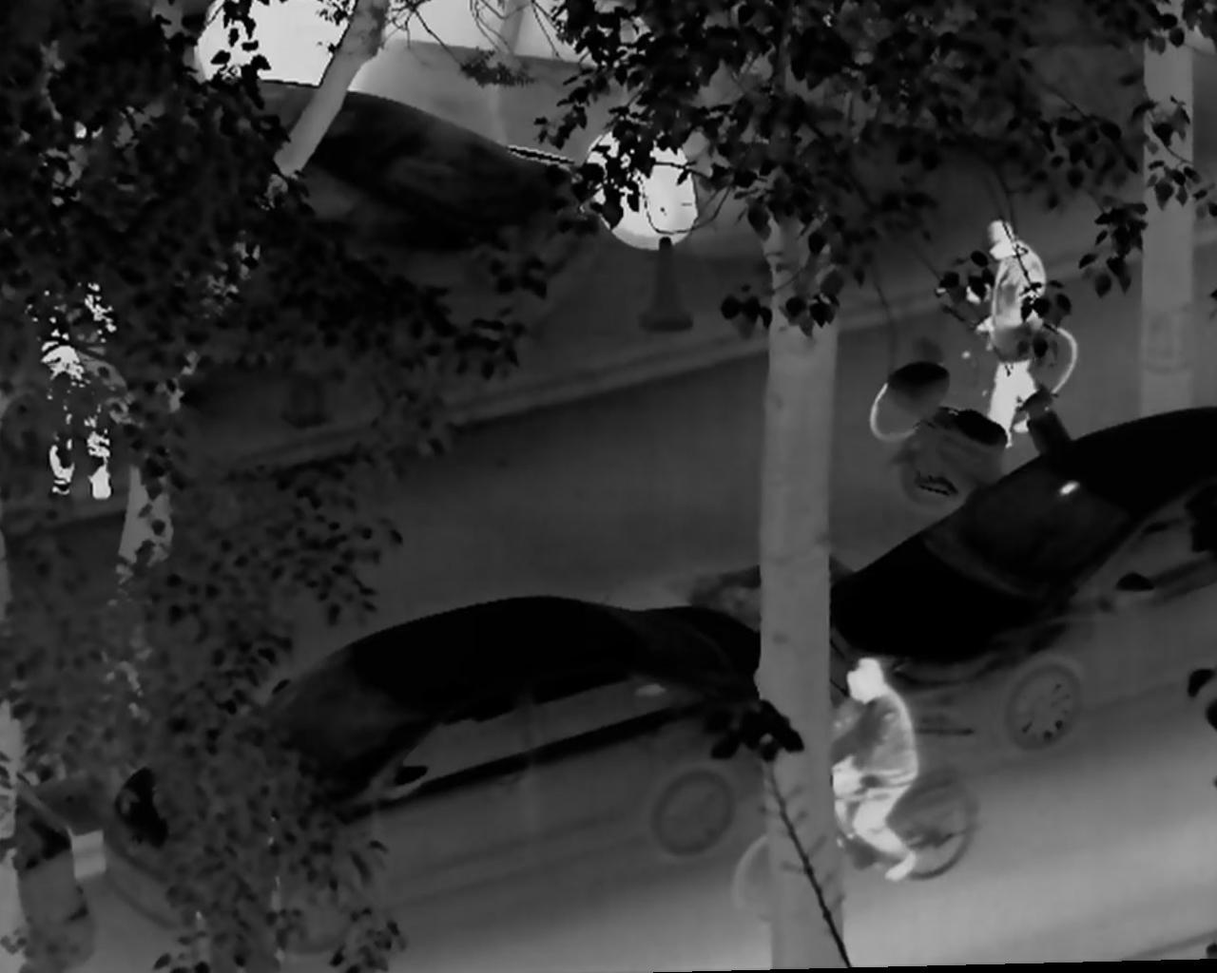person: (20, 265, 126, 508), (957, 218, 1055, 454), (826, 653, 918, 881)
